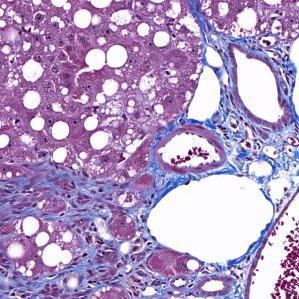fibrosis: (0, 160, 119, 217), (58, 250, 161, 299), (223, 120, 299, 183)
